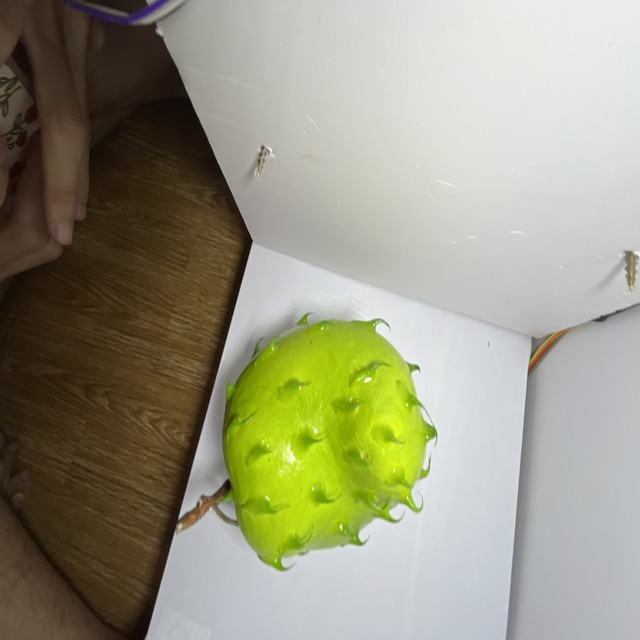Man cau: (216, 312, 450, 577)
